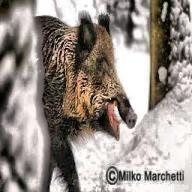boar: (34, 12, 138, 191)
